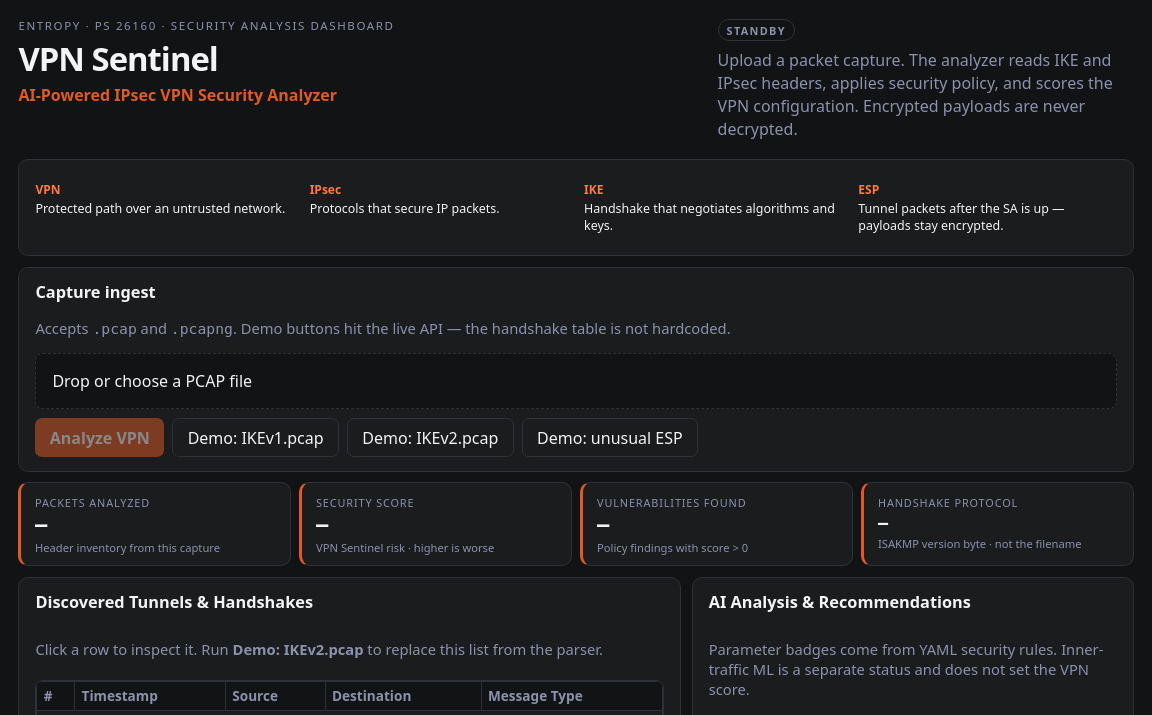
VPN Sentinel UI › fills the handshake table from Demo: IKEv2.pcap
The width and height of the screenshot is (1152, 715).
Click the button "Demo: IKEv2.pcap": coordinates (430, 438) [347,418,514,457]
(page scrolled)
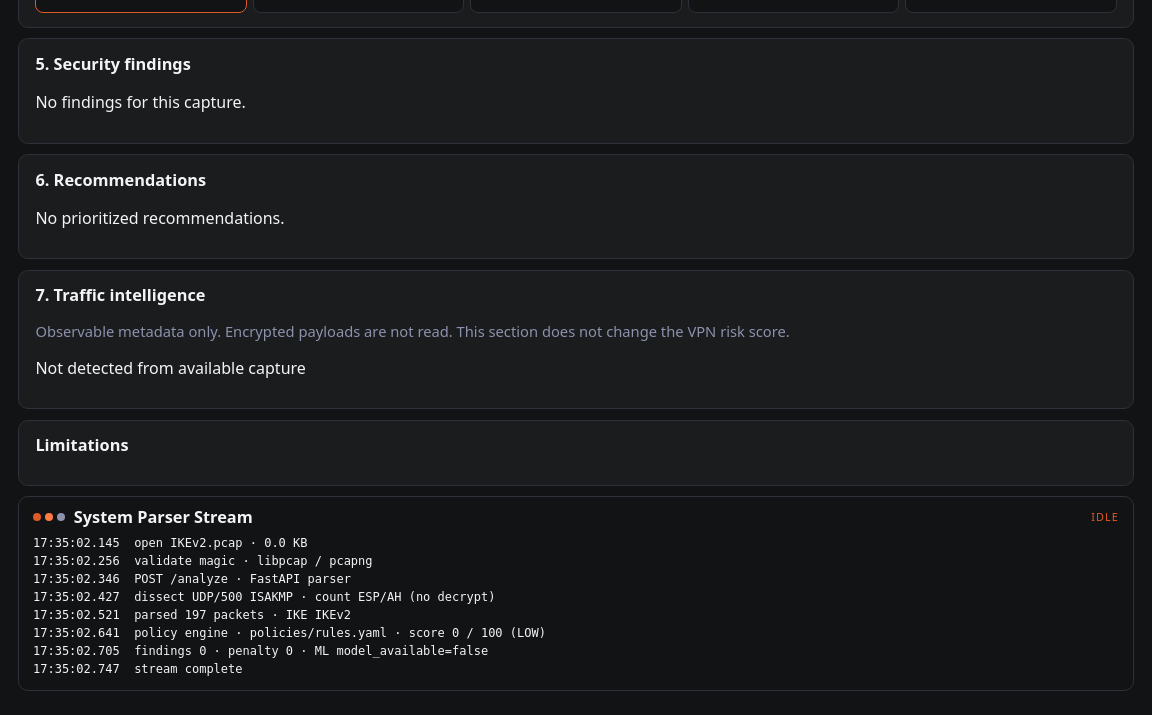
Expected: the text "parsed 197 packets" is shown, [33,536,546,676]
